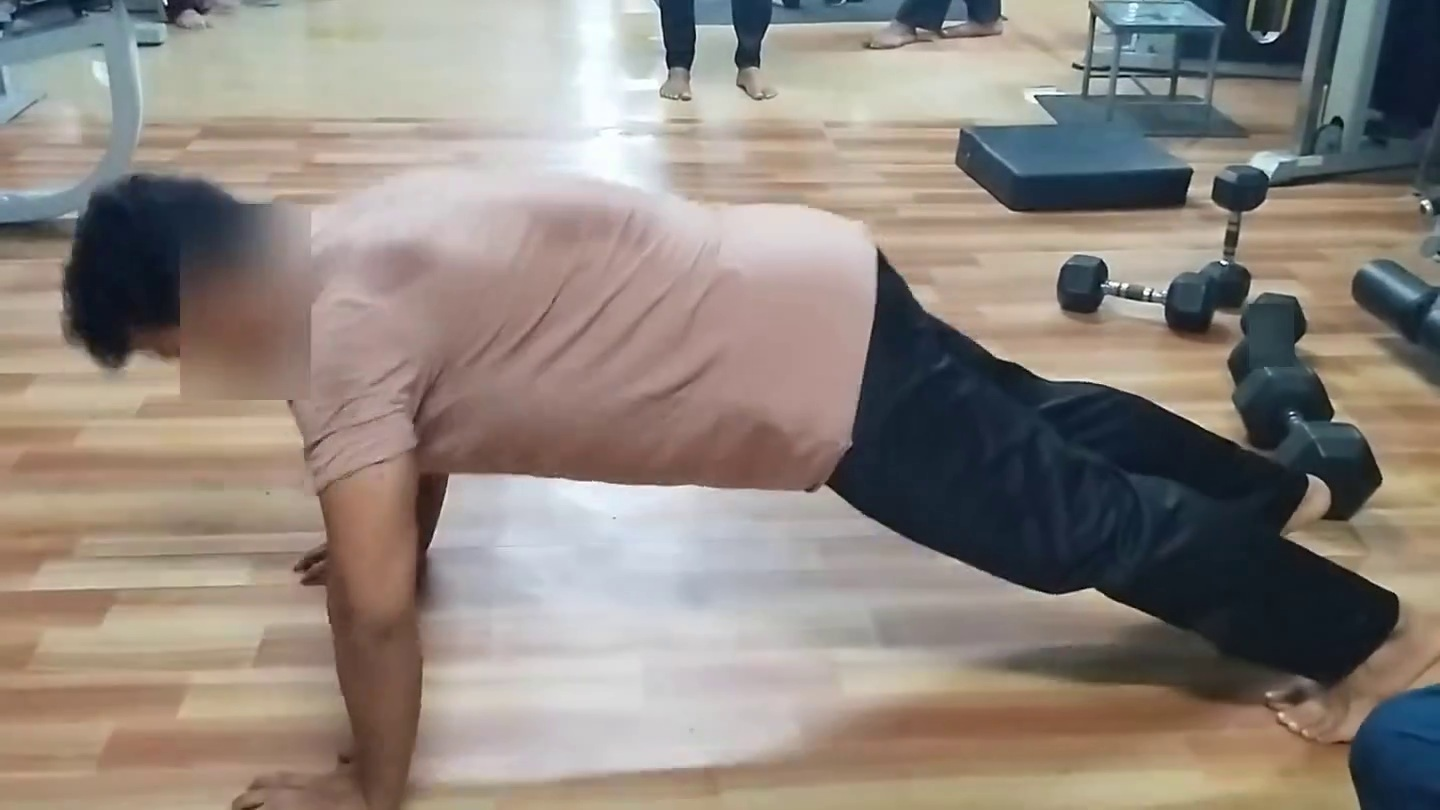push_up: (31, 139, 1440, 810)
